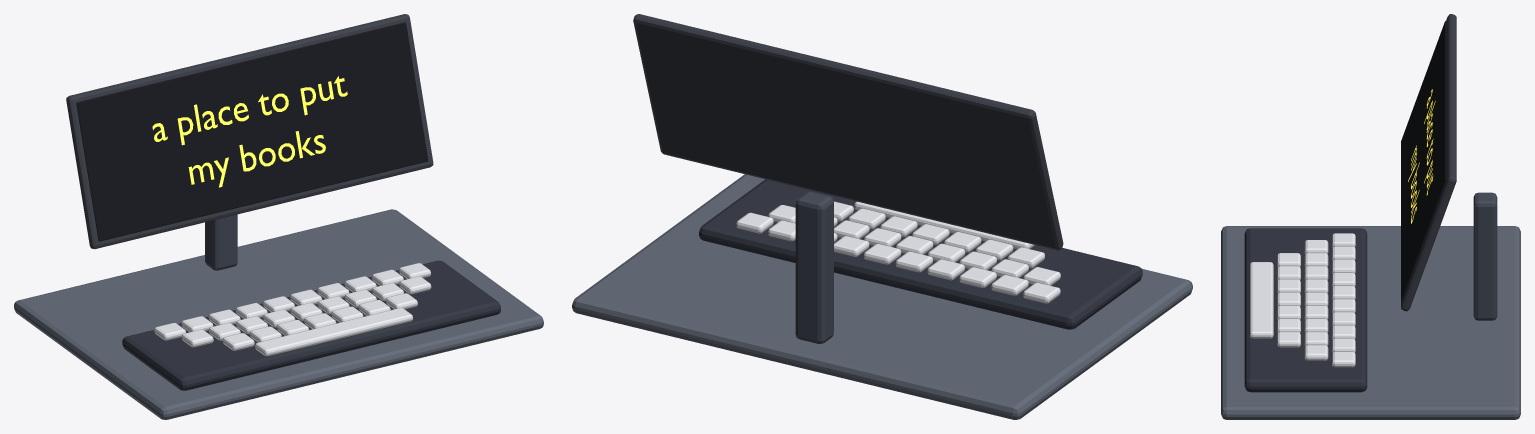
File: your_text.glb
3 renders of one model, left to right at view 1: azimuth 30°, elevation 25°; view 2: azimuth 150°, elevation 25°; view 3: azimuth 270°, elevation 25°, orthographic. The views are drawn at different scales.
Parts seen in each view (by area): view 1: display_glass, stand, k00, kbd, display_frame, display_l0, post; view 2: display_frame, stand, kbd, k00, post; view 3: stand, kbd, k00, display_glass, display_frame, post, display_l0.
Boxes of the visible parts, x1,y1,x2,y2 form: display_glass: [76, 22, 428, 241]; stand: [14, 209, 543, 419]; k00: [154, 263, 431, 356]; kbd: [122, 260, 500, 390]; display_frame: [66, 14, 433, 249]; display_l0: [152, 76, 347, 187]; post: [205, 214, 237, 270]; display_frame: [633, 14, 1063, 250]; stand: [572, 174, 1192, 419]; kbd: [699, 179, 1142, 329]; k00: [736, 201, 1060, 303]; post: [795, 191, 833, 343]; stand: [1221, 226, 1520, 419]; kbd: [1244, 228, 1367, 392]; k00: [1250, 233, 1355, 367]; display_glass: [1401, 21, 1446, 301]; display_frame: [1401, 14, 1456, 311]; post: [1473, 192, 1497, 320]; display_l0: [1408, 89, 1435, 223].
Size of the model in its own units: 0.93 by 0.5472 by 0.635.
